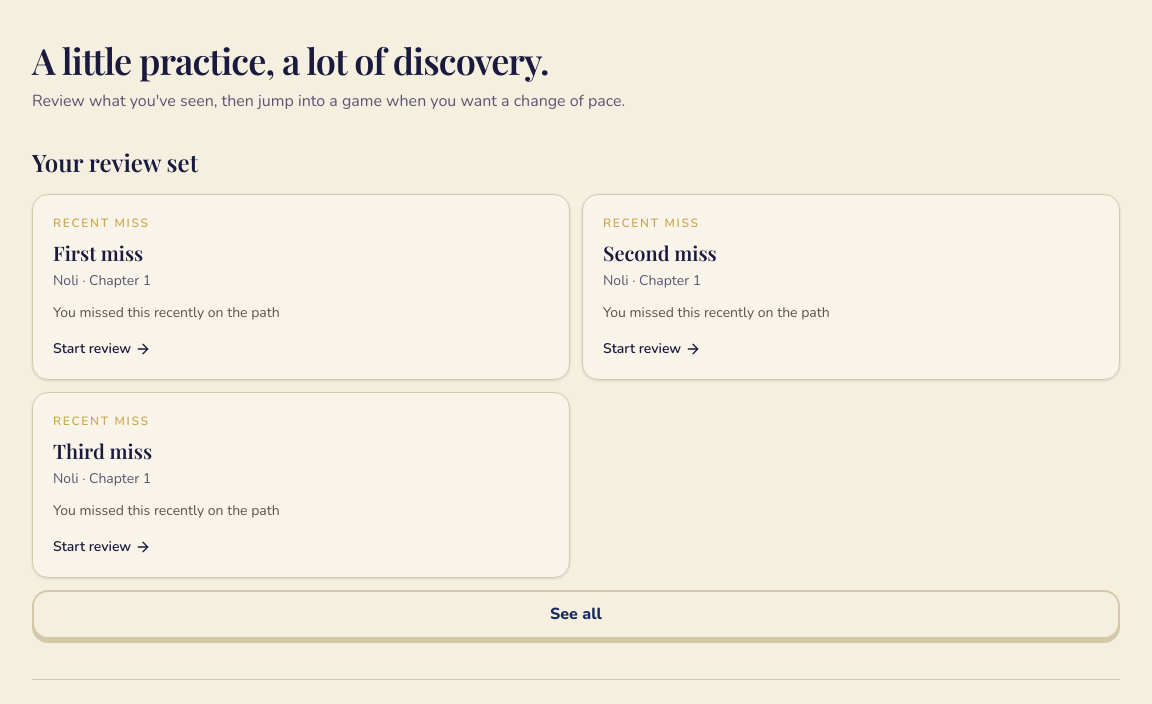
Test: PracticeHub review inbox › shows three cards and reveals the fourth after See all
Expected: the link "First miss" is shown, [32,194,570,380]
Expected: the link "Second miss" is shown, [582,194,1120,380]
Click the button "See all". click: (576,614)
box: [32,590,1120,639]
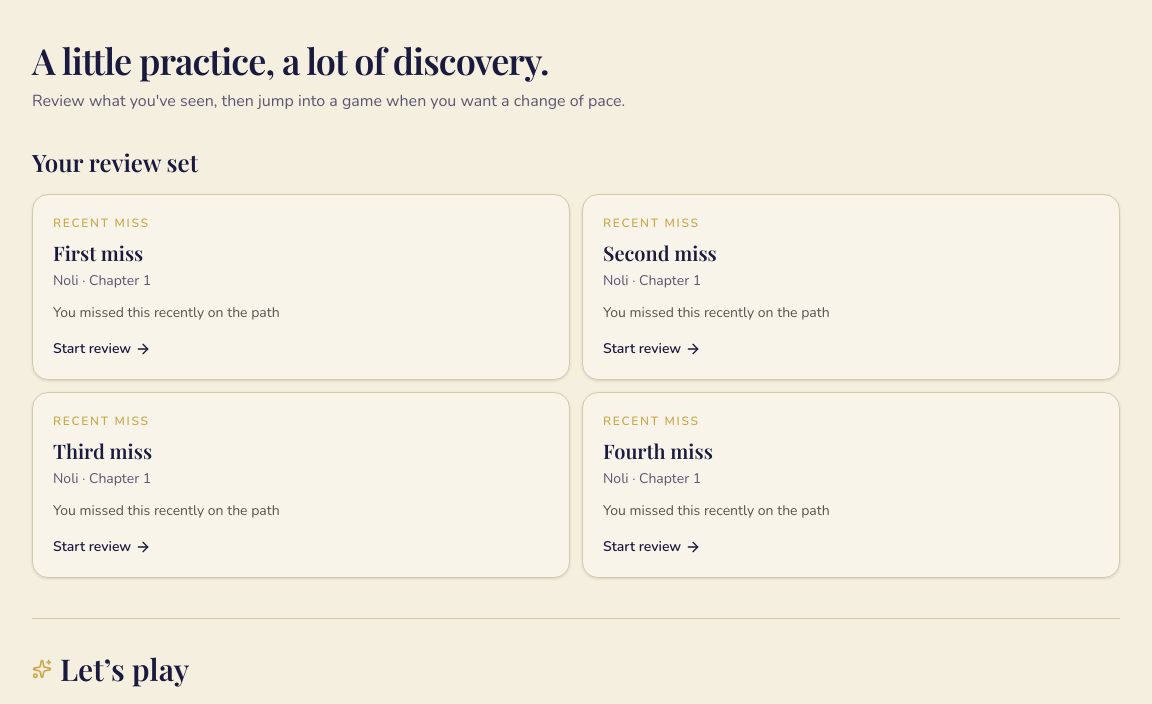
Expected: the link "Fourth miss" is shown, [582,392,1120,578]
